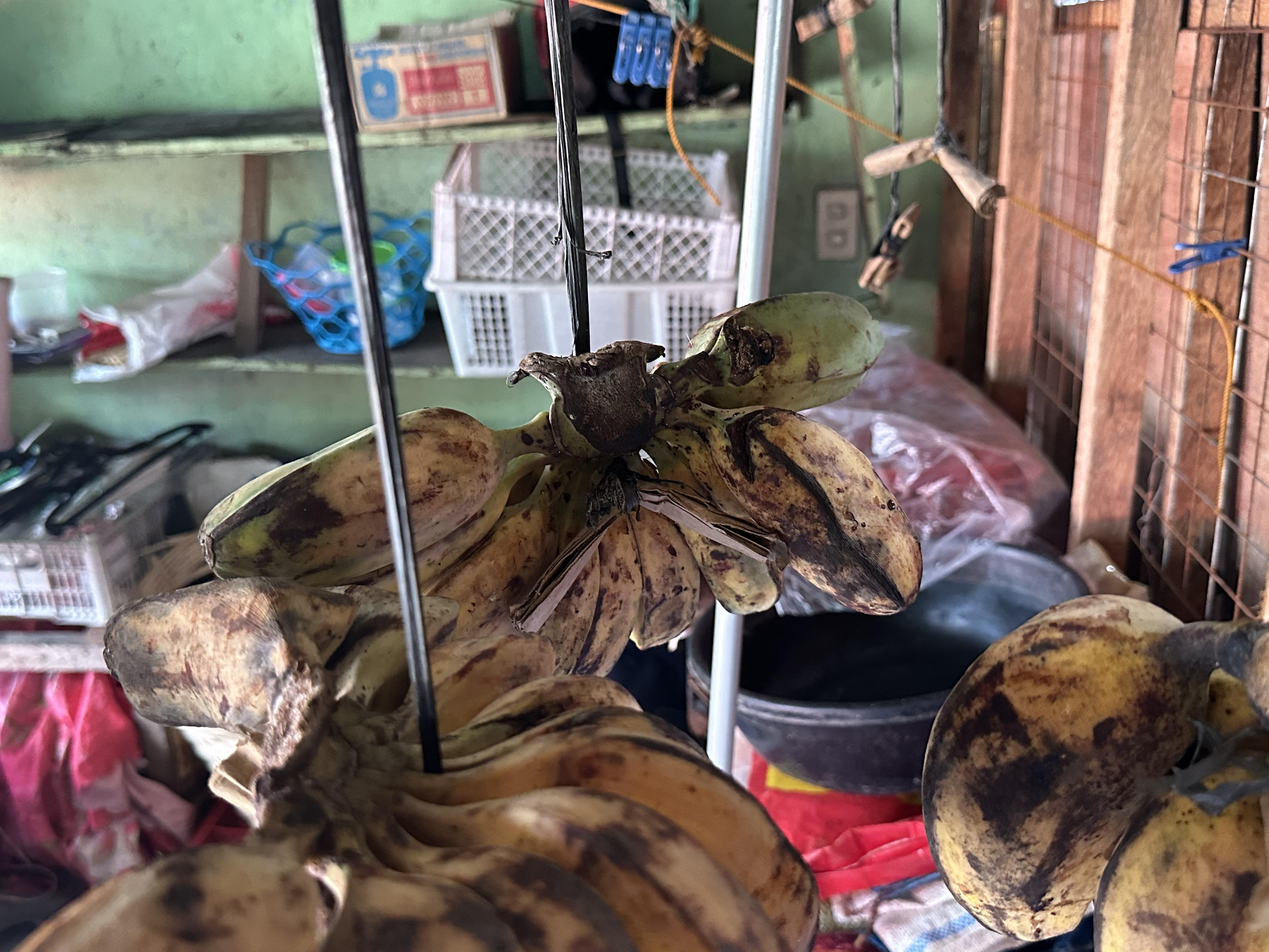ripe: (9, 595, 818, 952), (920, 593, 1269, 952), (661, 290, 923, 616), (103, 577, 410, 749), (397, 406, 581, 639), (541, 515, 782, 677)
